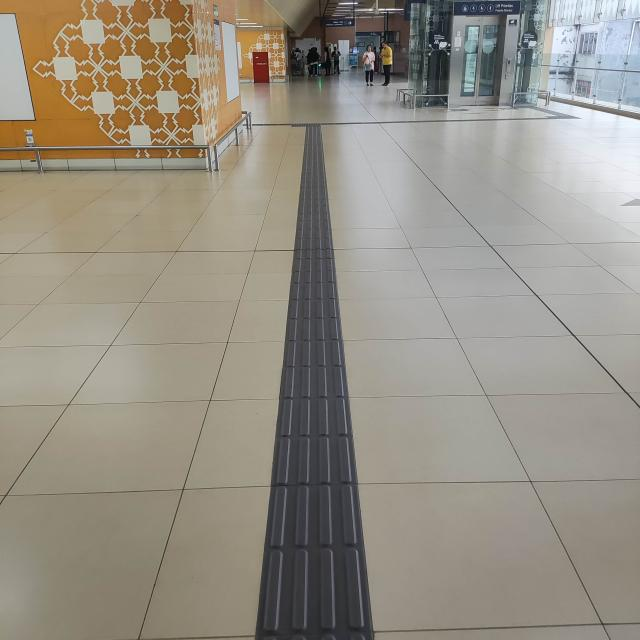lurus: (274, 142, 370, 640)
